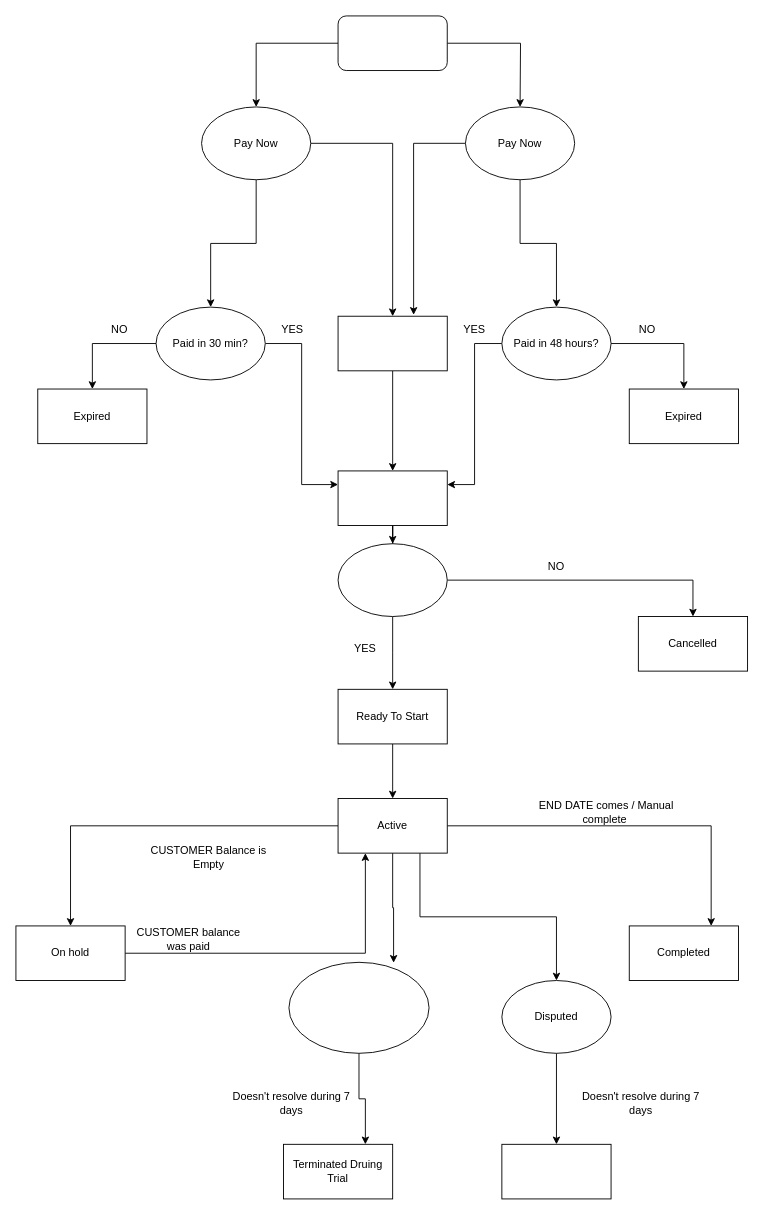
The diagram is 763 pixels wide and 1215 high, and some of its shapes have lost their labels. The shapes that lost their labels are listed below. From the top down, each one's box as (x1, y1, x2, y2) in pixels, then its label:
(337, 15, 447, 71): Checkout page
(337, 315, 447, 371): Created
(337, 470, 447, 526): Waiting for Payment
(337, 543, 447, 617): Payment succseed?
(288, 961, 429, 1053): Disputed during fisrt 7 days after order start
(501, 1143, 611, 1199): Terminated
